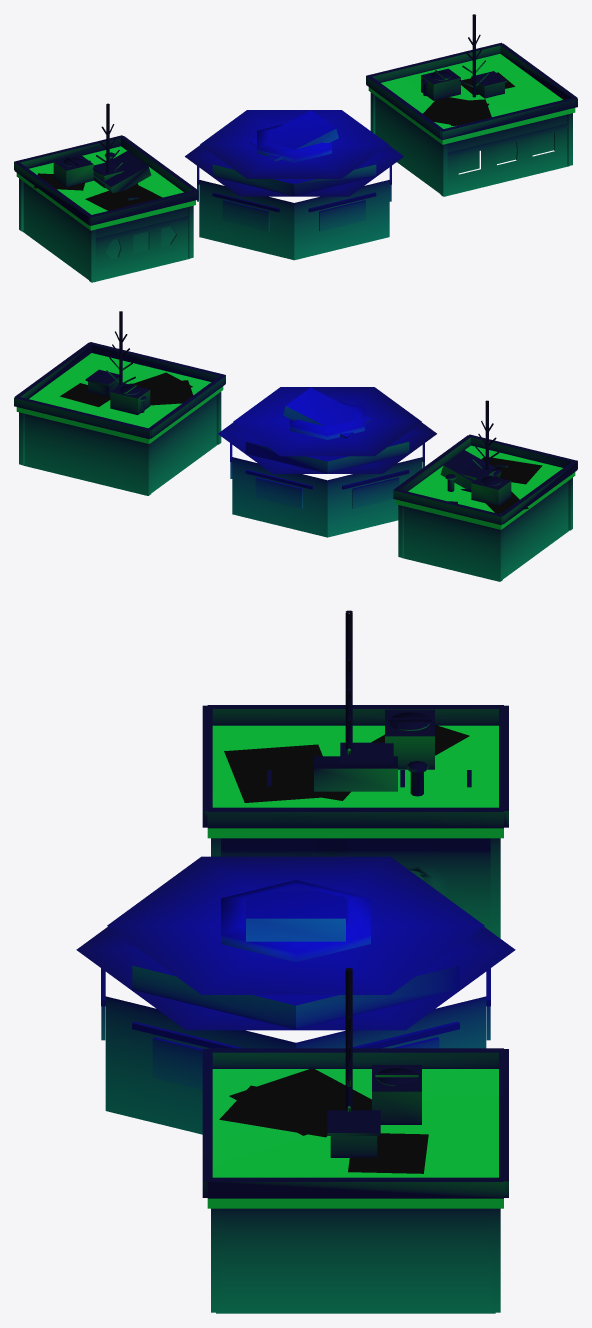
File: powergenerator_damaged.glb
3 renders of one model, top to bottom at view 1: azimuth 30°, elevation 25°; view 2: azimuth 150°, elevation 25°; view 3: azimuth 270°, elevation 25°, orthographic. The views are drawn at different scales.
Parts seen in each view (by area): view 1: lod0; view 2: lod0; view 3: lod0.
Boxes of the visible parts, bbox=[...] form: lod0: bbox=[14, 14, 577, 282]; lod0: bbox=[14, 311, 577, 581]; lod0: bbox=[76, 610, 515, 1313].
Size of what is drawn, in the model's own units: 34.12 by 9.4 by 13.2.
